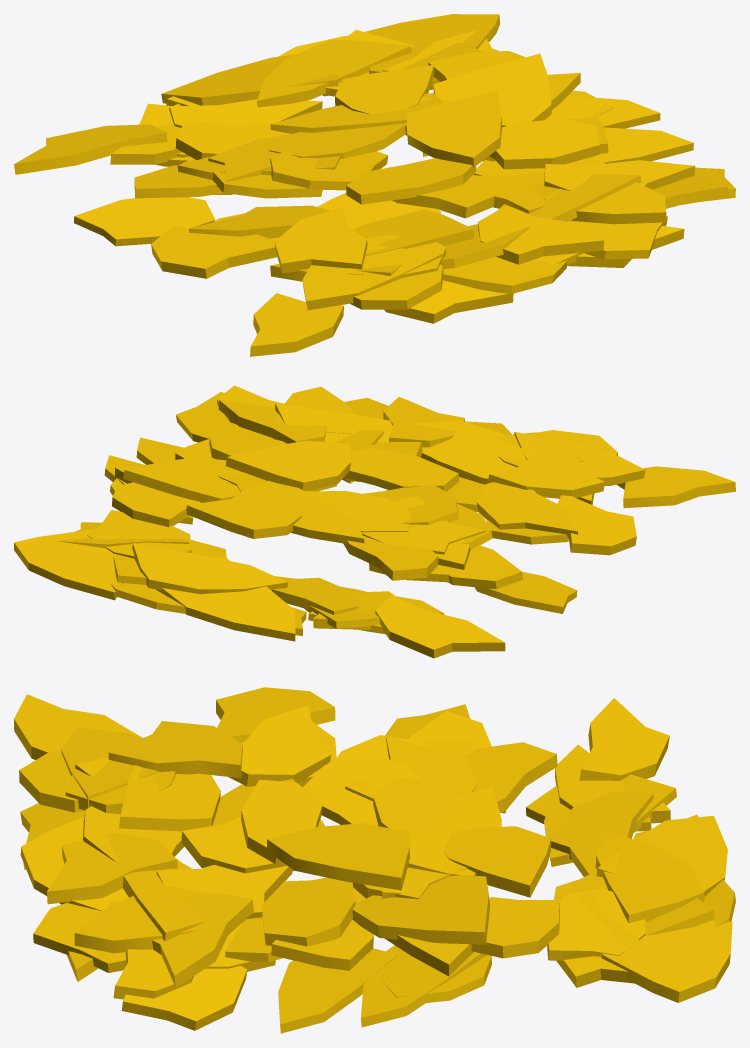
3 views of the same model, one above another, from view 1: azimuth 30°, elevation 25°; view 2: azimuth 150°, elevation 25°; view 3: azimuth 270°, elevation 25° (orthographic). The views are drawn at different scales.
Parts seen in each view (by area): view 1: object; view 2: object; view 3: object.
Boxes of the visible parts, x1,y1,x2,y2 form: object: (14,14,735,356); object: (14,385,735,658); object: (14,687,735,1033).
Size of the model in its own units: 845 by 93.85 by 802.
